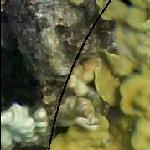alive: (3, 4, 149, 148)
